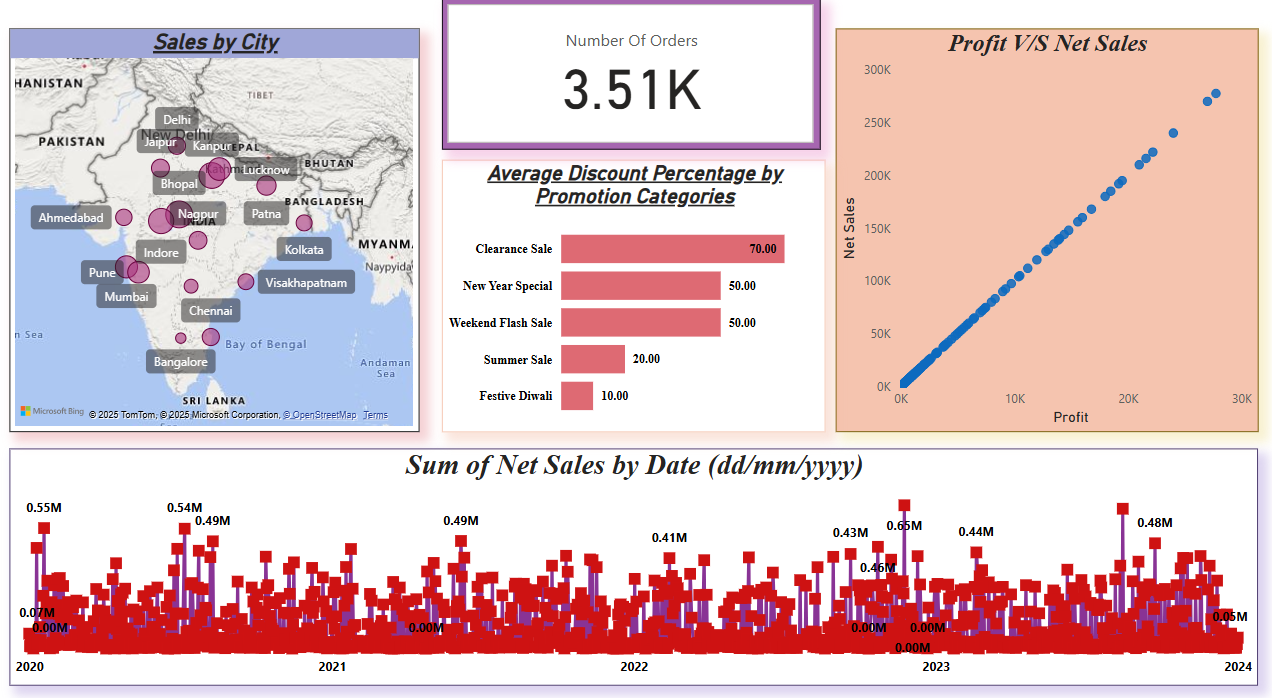

This screenshot's page, from the dashboard's own definition file:
{"tool":"powerbi","page":{"name":"Overview","canvas":[1280,720],"ordinal":1},"visuals":[{"type":"lineChart","fields":{"Y":["Sum(Fact Table.Net Sales)"],"Category":["Fact Table.Date (dd/mm/yyyy).Variation.Date Hierarchy.Year"]},"box":[17.4,460.3,1242.7,236.4],"z":0},{"type":"scatterChart","title":"Profit V/S Net Sales","fields":{"X":["Fact Table.Profit"],"Y":["Fact Table.Net Sales"]},"box":[839.7,42.3,420.5,401.8],"z":1000},{"type":"barChart","title":"Average  Discount Percentage by Promotion Categories","fields":{"Y":["Avg(Fact Table.Discount Percentage)"],"Category":["Dim Promotion.Promotion Name"]},"box":[447.8,172.9,381.9,271.2],"z":2000},{"type":"map","title":" Sales by City","fields":{"Category":["Dim Customers.City"],"Size":["Sum(Fact Table.Net Sales)"]},"box":[17.4,42.3,408,401.8],"z":3000},{"type":"cardVisual","fields":{"Data":["Count(Fact Table.Order ID)"]},"box":[447.8,12.4,376.9,150.5],"z":4000}]}

Visuals, with their boxes in screenshot pixels (x1, y1, x2, y2), scaled from the page's 1280x720 canvas onto the 1272x698 screenshot:
lineChart - Sum(Fact Table.Net Sales) x Fact Table.Date (dd/mm/yyyy).Variation.Date Hierarchy.Year: (left=17, top=446, right=1252, bottom=675)
"Profit V/S Net Sales" scatterChart: (left=834, top=41, right=1252, bottom=431)
"Average  Discount Percentage by Promotion Categories" barChart: (left=445, top=168, right=825, bottom=431)
" Sales by City" map: (left=17, top=41, right=423, bottom=431)
cardVisual - Count(Fact Table.Order ID): (left=445, top=12, right=820, bottom=158)
